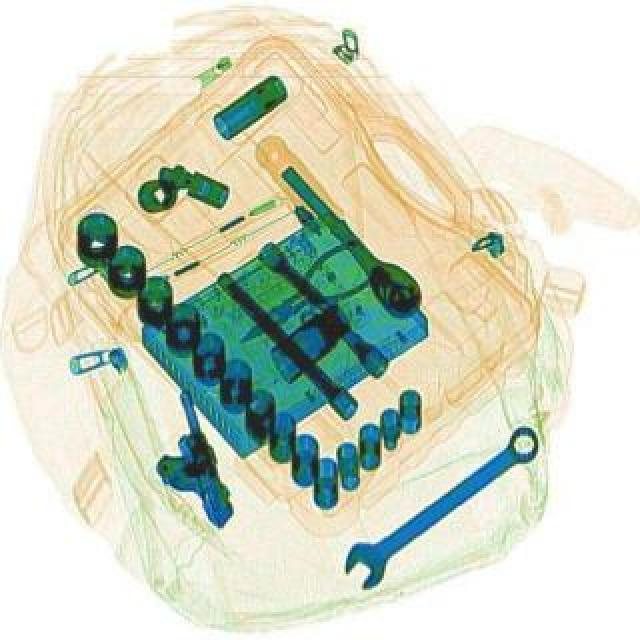gun: (134, 392, 242, 542)
scissors: (334, 418, 550, 598)
wrench: (226, 236, 388, 364)
